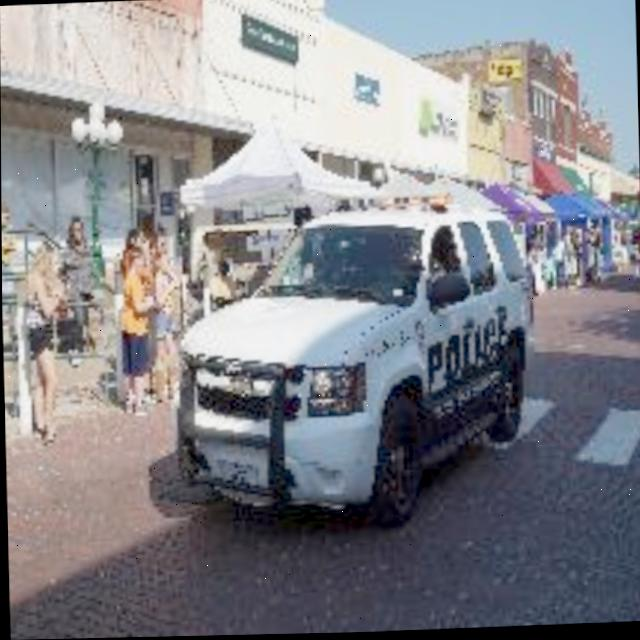emergency: (163, 192, 543, 539)
